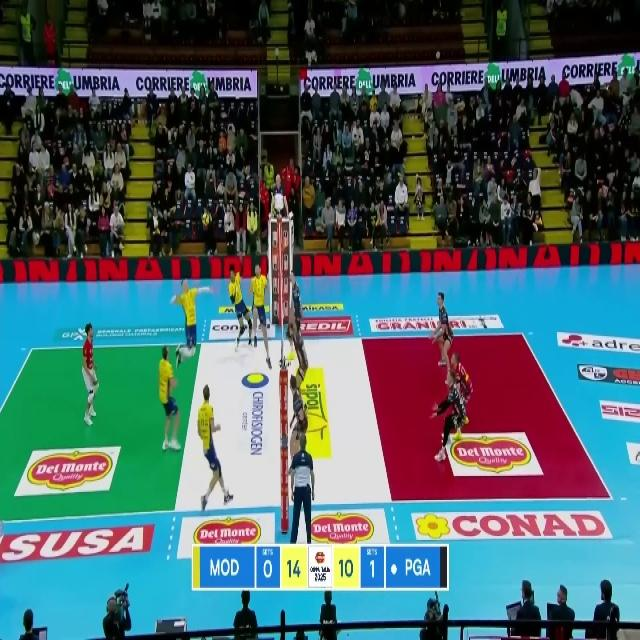volleyball court: (1, 333, 611, 515)
